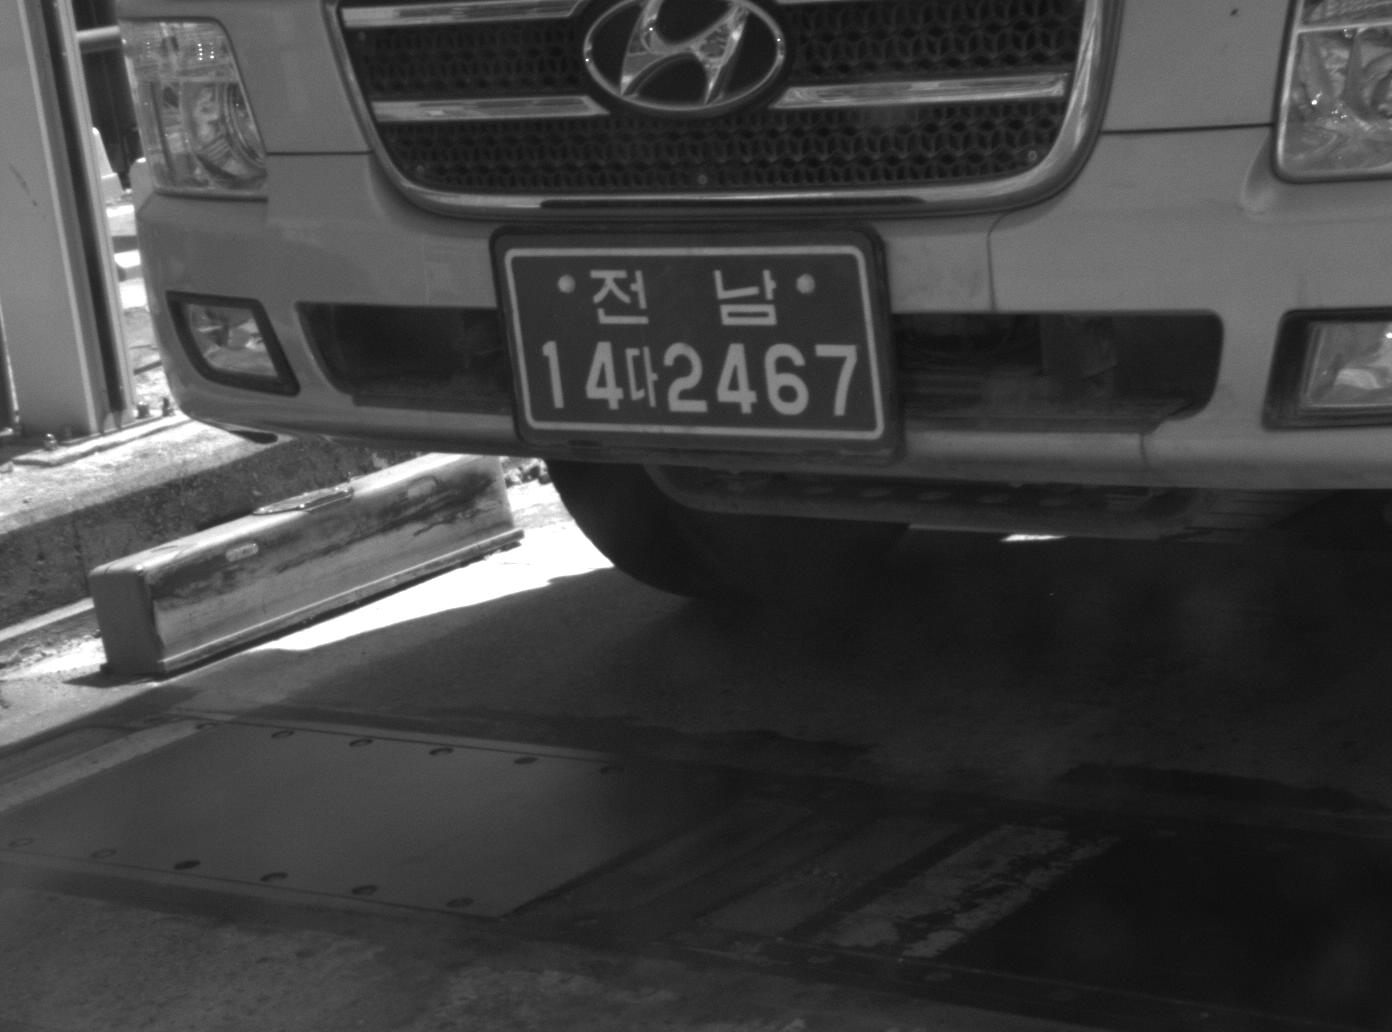car: (99, 1, 1387, 604)
plate: (486, 230, 897, 453)
